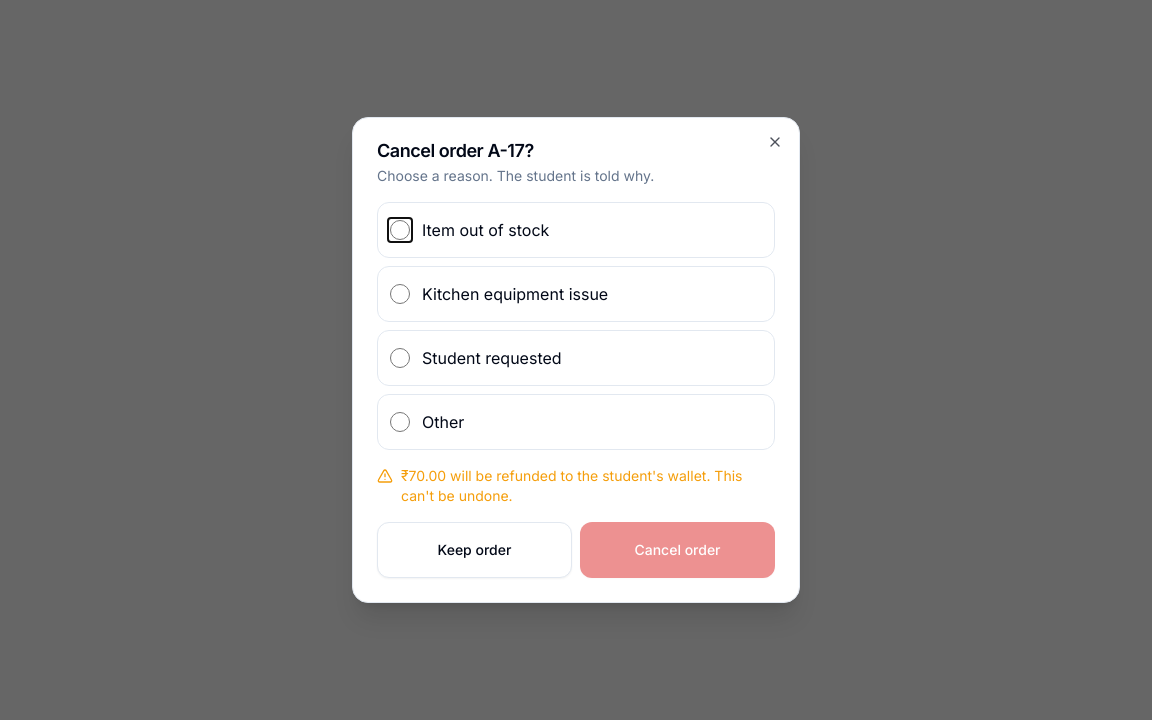
CancelOrderDialog › requires a reason, and text for Other
Check: the button "Cancel order" is disabled, box 580,522 -> 775,578
Click the radio button labelled "Other" at (400, 422), box 390,412 -> 410,432
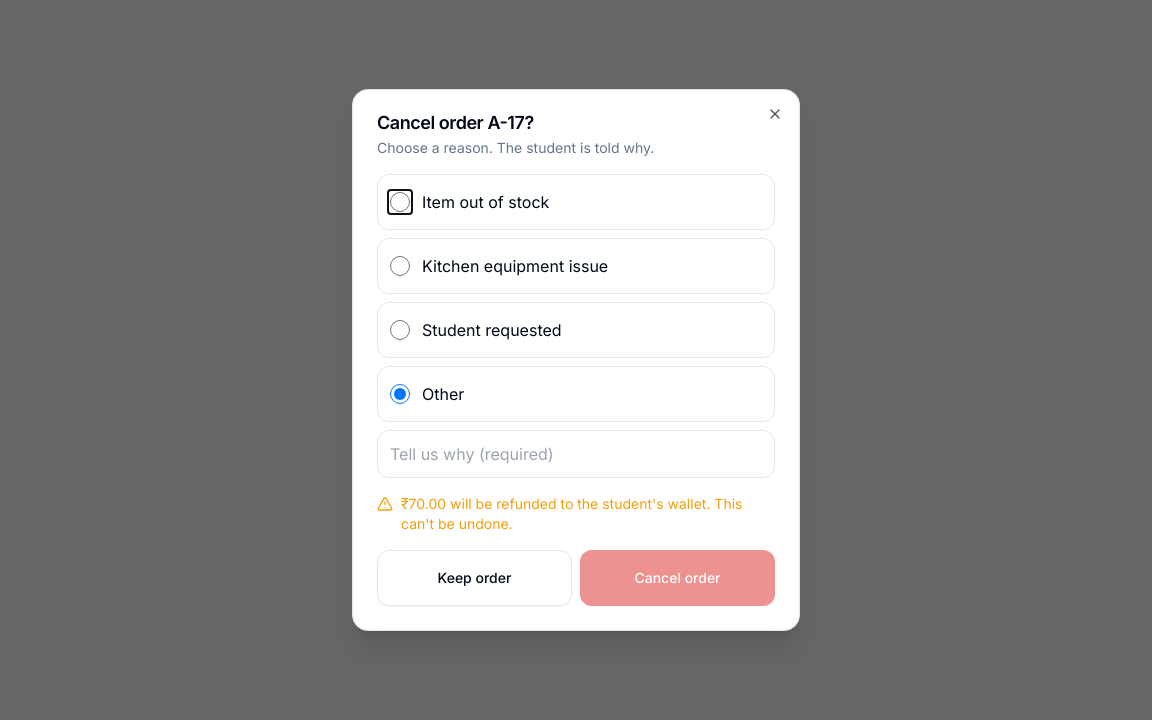
Check: the button "Cancel order" is disabled, box 580,550 -> 775,606
Type "Gas leak" into the field named "Other reason" at (576, 454), box 377,430 -> 775,478
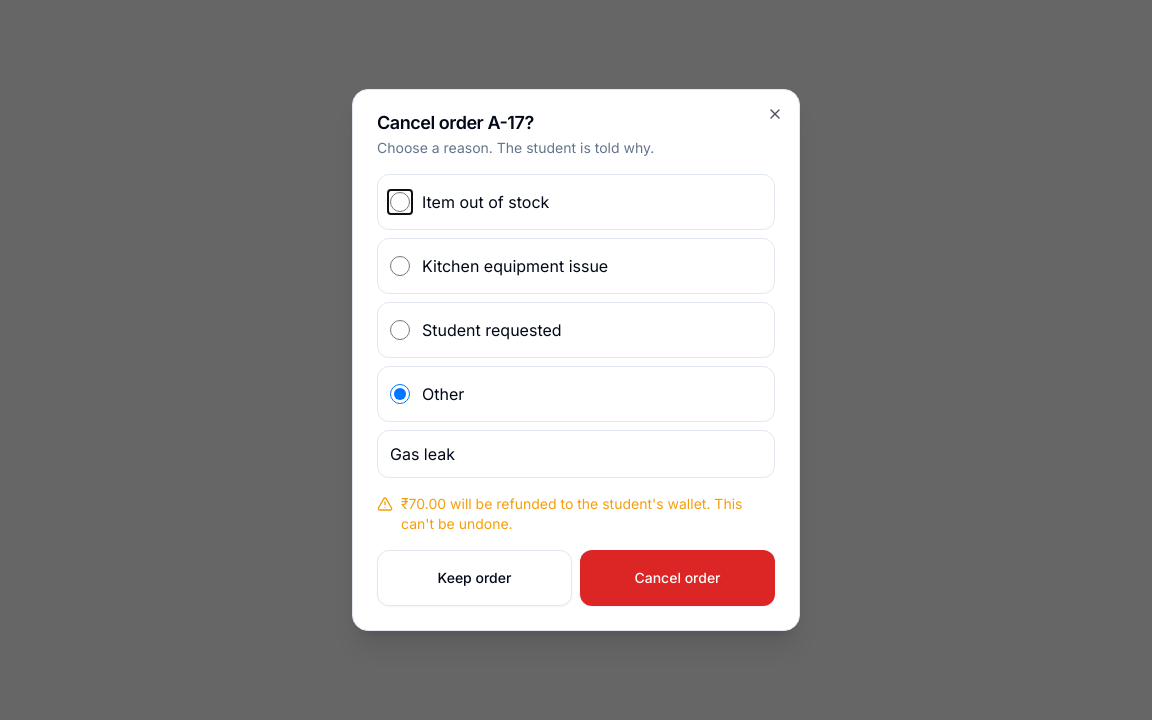
Check: the button "Cancel order" is enabled, box 580,550 -> 775,606
